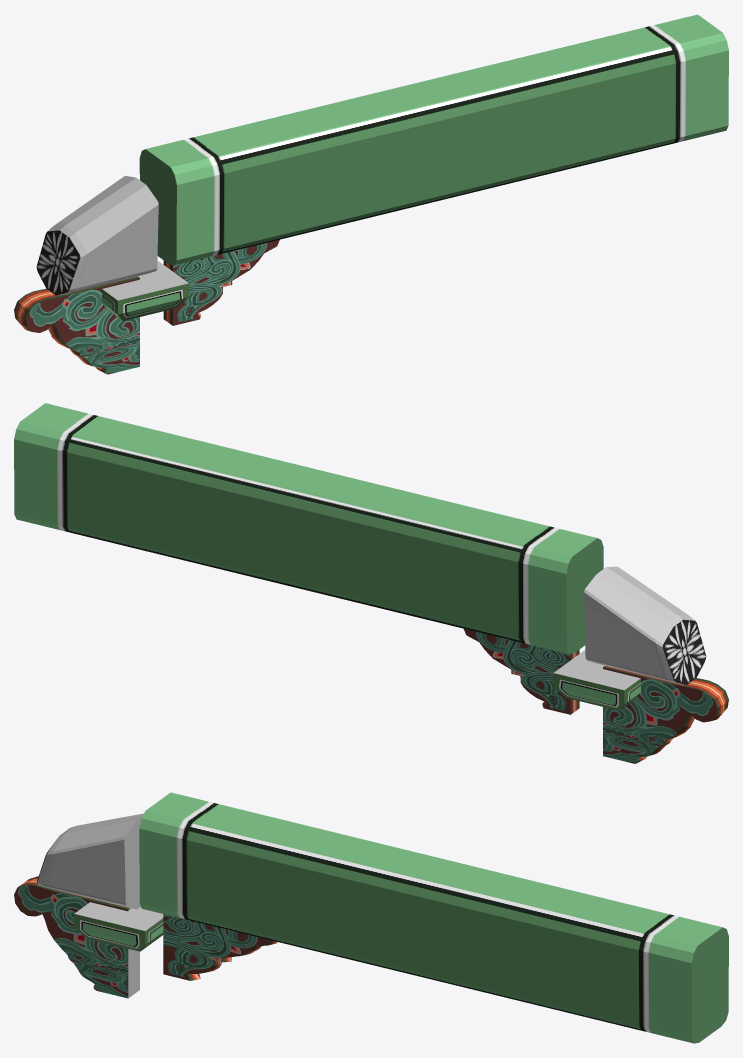
File: SM_R_Beam_28.fbx
3 views of the same model, one above another, from view 1: azimuth 30°, elevation 25°; view 2: azimuth 150°, elevation 25°; view 3: azimuth 330°, elevation 25° (orthographic).
Visible parts, largest first — view 1: SM_R_Beam_28_LOD0; view 2: SM_R_Beam_28_LOD0; view 3: SM_R_Beam_28_LOD0.
Part boxes in pixels (x1,y1,x2,y2): SM_R_Beam_28_LOD0: (14,14,728,374); SM_R_Beam_28_LOD0: (14,403,728,763); SM_R_Beam_28_LOD0: (14,792,728,1043).
Size of the model in its own units: 296 by 32.84 by 81.26.
